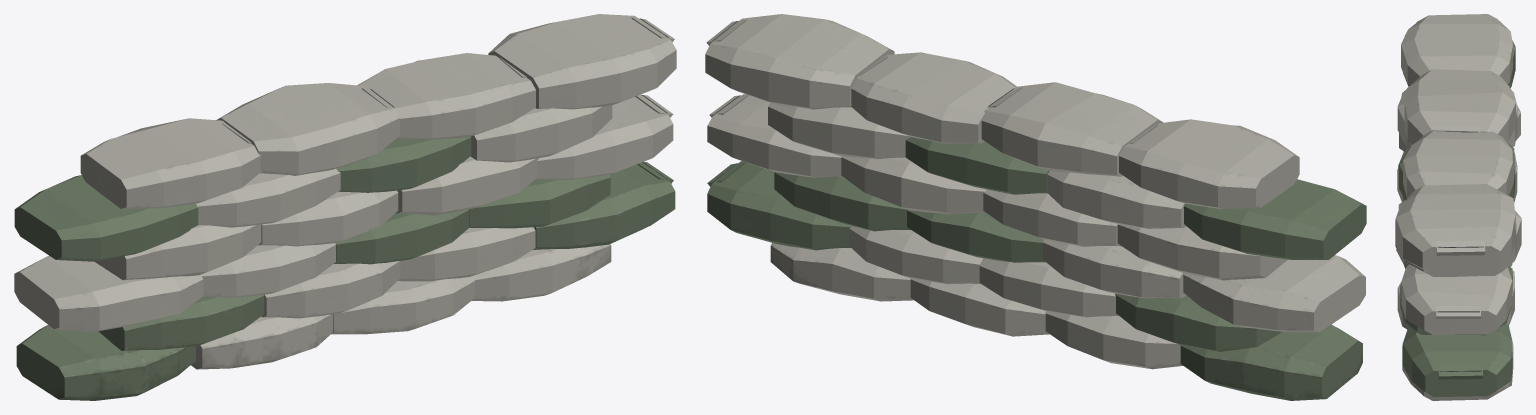
File: sandbag_barrier_straight.glb
3 renders of one model, left to right at view 1: azimuth 30°, elevation 25°; view 2: azimuth 150°, elevation 25°; view 3: azimuth 270°, elevation 25°, orthographic. The views are drawn at different scales.
Visible parts, largest first — view 1: SandbagsStraight; view 2: SandbagsStraight; view 3: SandbagsStraight.
Boxes of the visible parts, x1,y1,x2,y2 form: SandbagsStraight: (14,14,676,400); SandbagsStraight: (705,14,1366,400); SandbagsStraight: (1395,14,1521,400).
Size of what is drawn, in the model's own units: 2.75 by 0.9418 by 0.5517.
1 material, 1 textured.
